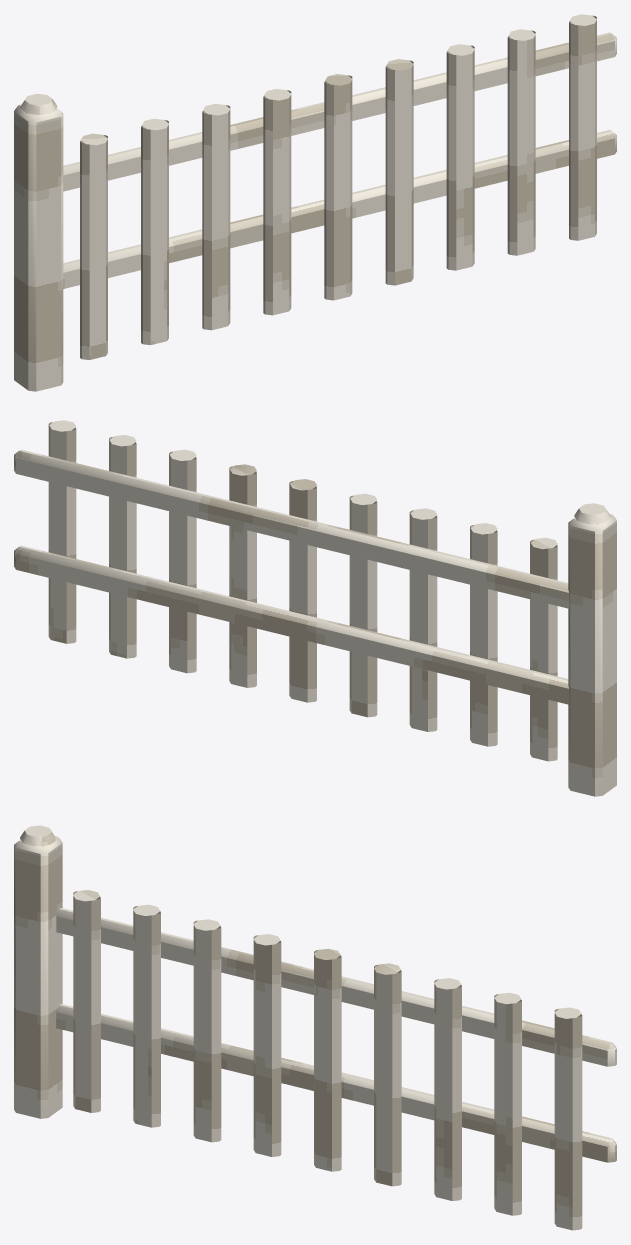
File: fence_0.glb
3 views of the same model, one above another, from view 1: azimuth 30°, elevation 25°; view 2: azimuth 150°, elevation 25°; view 3: azimuth 330°, elevation 25° (orthographic).
Visible parts, largest first — view 1: fence_1; view 2: fence_1; view 3: fence_1.
Boxes of the visible parts, x1,y1,x2,y2 form: fence_1: (14, 14, 616, 391); fence_1: (14, 420, 616, 796); fence_1: (14, 825, 616, 1230).
Bounding box in the file's own units: 2.06 × 0.9249 × 0.12.
1 material, 1 textured.
